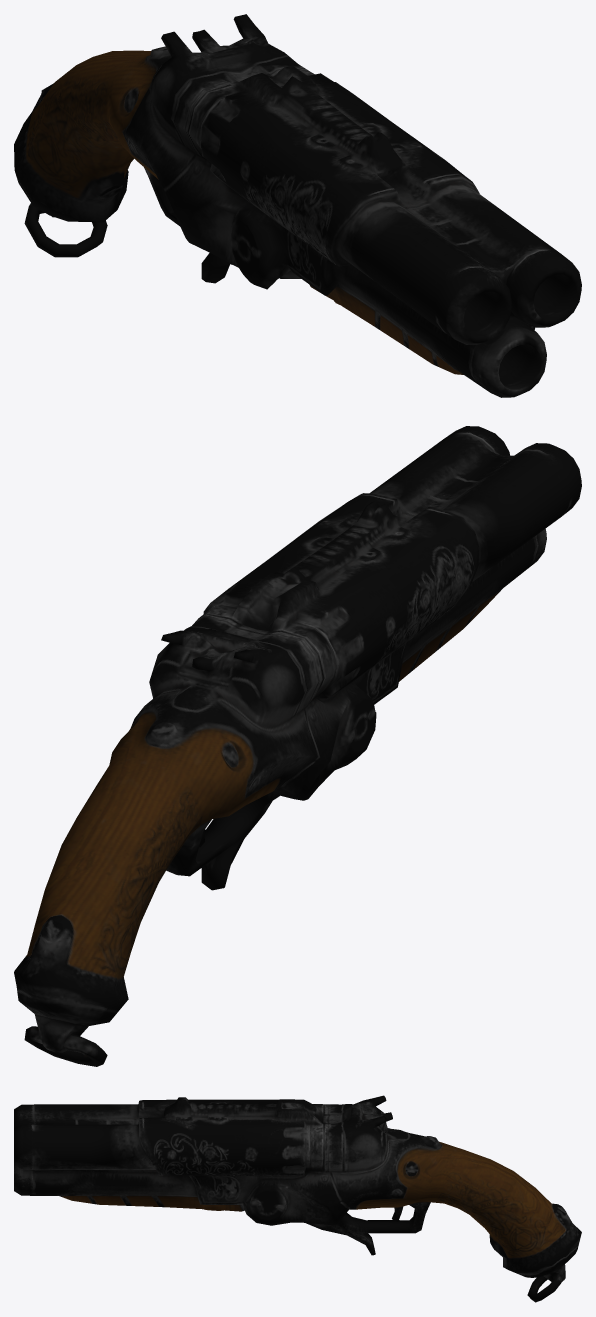
The model's file is shotgun.glb.
The picture shows the model from 3 angles, top to bottom: view 1: azimuth 30°, elevation 25°; view 2: azimuth 150°, elevation 25°; view 3: azimuth 270°, elevation 25°; orthographic projection. The views are drawn at different scales.
Parts seen in each view (by area): view 1: the_jolly; view 2: the_jolly; view 3: the_jolly.
Boxes of the visible parts, <box> form: the_jolly: <box>14,14,581,397</box>; the_jolly: <box>14,426,581,1066</box>; the_jolly: <box>14,1095,581,1302</box>.
Size of the model in its own units: 10.6 by 21.83 by 56.26.
1 material, 1 textured.
